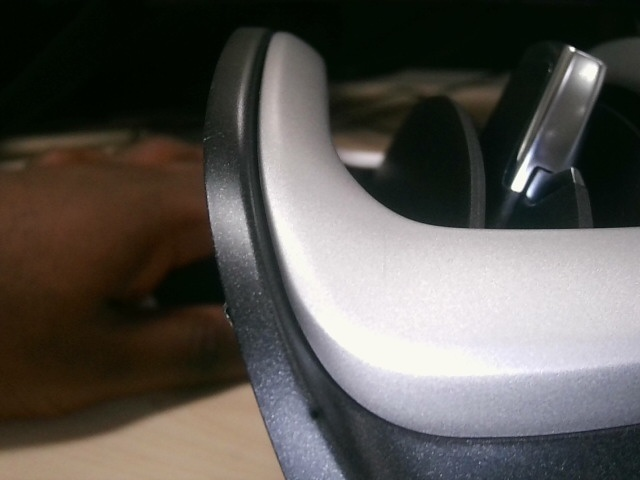NG: (375, 231, 396, 283), (201, 122, 221, 162)
